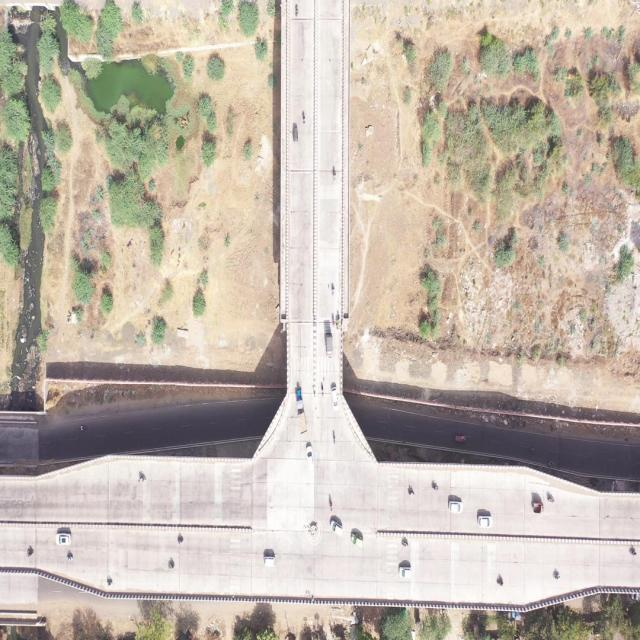3W: (324, 333, 334, 362), (292, 122, 299, 147)
Cars: (446, 494, 464, 518), (476, 510, 494, 533), (329, 516, 344, 543), (396, 562, 415, 582), (350, 528, 365, 553), (305, 442, 317, 473), (329, 381, 341, 412), (54, 529, 73, 547), (263, 550, 276, 574)
LCV: (532, 500, 544, 516)
M2W: (24, 545, 36, 563), (400, 538, 412, 555), (626, 544, 638, 560), (545, 492, 557, 507), (494, 574, 506, 587), (65, 548, 74, 565), (551, 566, 561, 581), (431, 479, 440, 495), (300, 110, 308, 128), (331, 166, 338, 186), (407, 486, 416, 500), (135, 474, 146, 485), (331, 428, 338, 445), (294, 4, 301, 21), (330, 280, 336, 298), (330, 313, 336, 331), (167, 558, 174, 573), (328, 495, 334, 512), (177, 532, 184, 544), (335, 311, 339, 330)
MAV: (292, 385, 308, 435)
Truck: (319, 381, 326, 400)
